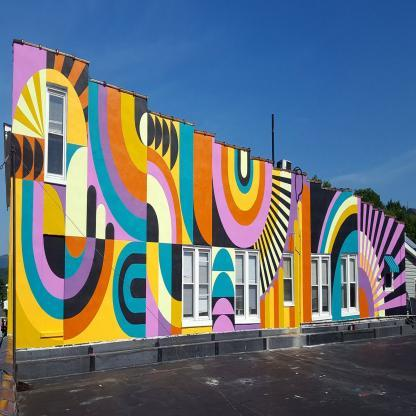Building Outline: (7, 38, 407, 383)
Dont: (0, 145, 193, 383)
Facade: (7, 133, 407, 382)
Floor Slab: (11, 201, 405, 252)
Ground Floor: (7, 212, 407, 383)
Sill: (44, 176, 67, 186), (182, 320, 213, 327), (234, 319, 260, 324), (341, 312, 360, 317), (312, 316, 332, 320), (284, 304, 295, 307), (385, 289, 394, 291)
Top Floor: (11, 43, 405, 249)
Window: (182, 244, 212, 322), (44, 82, 67, 180), (234, 249, 260, 320), (311, 253, 332, 317), (340, 252, 359, 314), (283, 251, 294, 305), (385, 254, 394, 289)
